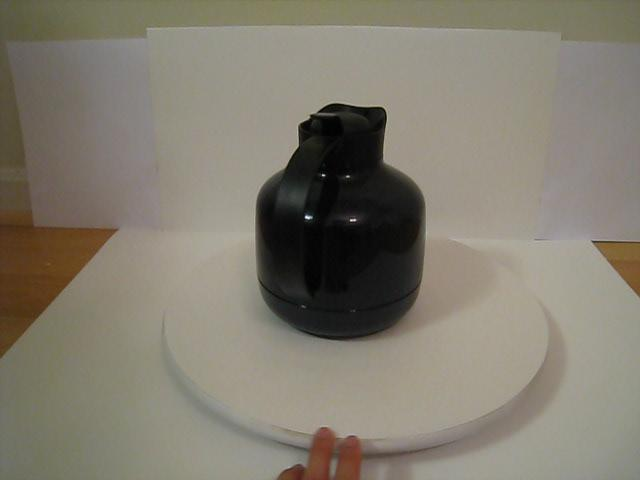pitcher: (249, 90, 428, 351)
